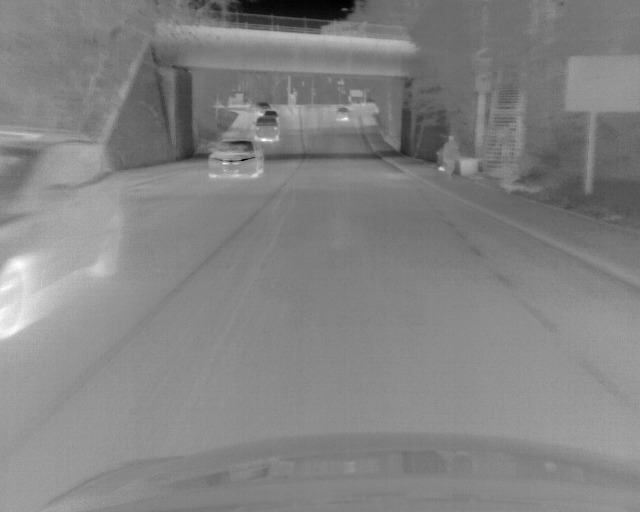car: (1, 124, 125, 337), (205, 140, 263, 180), (256, 116, 280, 141), (335, 107, 350, 122), (252, 102, 271, 111), (264, 110, 279, 121)
people: (440, 134, 460, 179)
